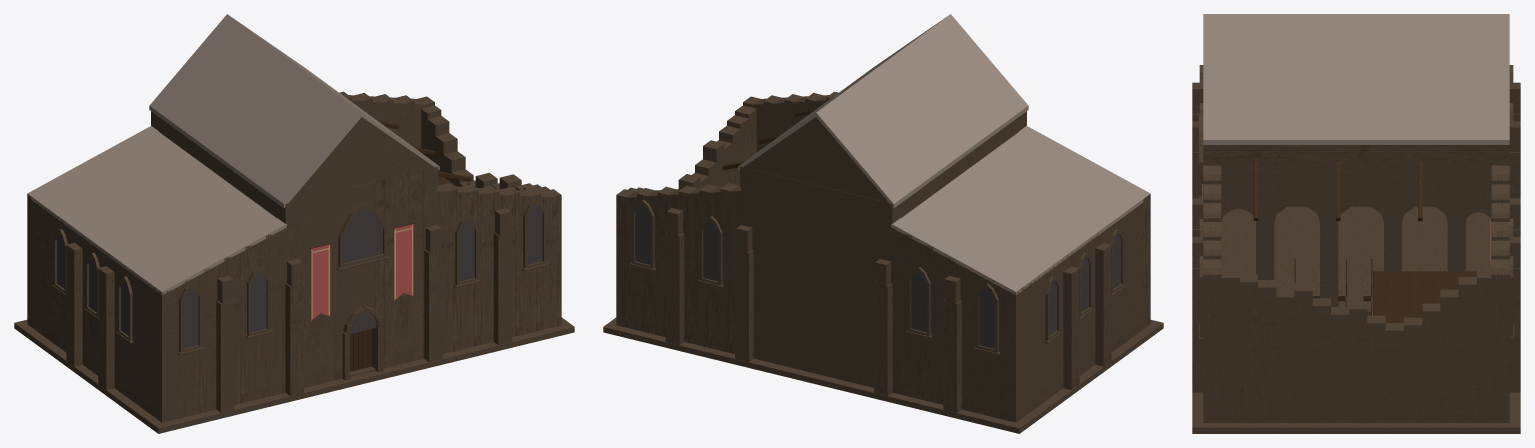
Rendered from d_cathedral.glb.
3 views of the same model, side by side, from view 1: azimuth 30°, elevation 25°; view 2: azimuth 150°, elevation 25°; view 3: azimuth 270°, elevation 25° (orthographic). The views are drawn at different scales.
Visible parts, largest first — view 1: foundation, nave roof, wall-colonly.002, wall-colonly.027, portal tympanum, wall-colonly.001, wall-colonly.008, wall-colonly.003, wall-colonly.009, banner, wall-colonly.011, wall-colonly.014 (+14 smaller); view 2: foundation, nave roof, portal tympanum, wall-colonly.015, wall-colonly.027, wall-colonly.021, wall-colonly.023, wall-colonly.026, wall-colonly.020, wall-colonly.022, buttress-colonly.002, buttress-colonly.006 (+12 smaller); view 3: foundation, nave roof, clerestory-colonly.001, broken rafter, wall-colonly.029, wall-colonly.030, wall-colonly.014, wall-colonly.026, wall-colonly.028, wall-colonly.041, wall-colonly.042, wall-colonly.033 (+24 smaller).
Boxes of the visible parts, x1,y1,x2,y2 form: foundation: (14, 95, 574, 433); nave roof: (27, 14, 439, 295); wall-colonly.002: (375, 168, 436, 368); wall-colonly.027: (35, 203, 153, 415); portal tympanum: (57, 204, 542, 348); wall-colonly.001: (287, 188, 347, 387); wall-colonly.008: (266, 231, 286, 397); wall-colonly.003: (154, 287, 182, 422); wall-colonly.009: (436, 183, 457, 353); banner: (310, 224, 413, 320); wall-colonly.011: (478, 185, 499, 345); wall-colonly.014: (541, 189, 561, 329); foundation: (603, 95, 1163, 433); nave roof: (738, 14, 1150, 295); portal tympanum: (635, 204, 1120, 348); wall-colonly.015: (995, 287, 1023, 422); wall-colonly.027: (1024, 204, 1142, 416); wall-colonly.021: (720, 183, 741, 353); wall-colonly.023: (678, 185, 699, 345); wall-colonly.026: (616, 189, 636, 329); wall-colonly.020: (891, 231, 911, 397); wall-colonly.022: (699, 184, 720, 350); buttress-colonly.002: (943, 300, 961, 412); buttress-colonly.006: (874, 283, 892, 395); foundation: (1192, 65, 1520, 433); nave roof: (1203, 14, 1509, 144); clerestory-colonly.001: (1203, 145, 1509, 162); broken rafter: (1201, 161, 1476, 322); wall-colonly.029: (1239, 274, 1257, 422); wall-colonly.030: (1258, 280, 1276, 422); wall-colonly.014: (1203, 268, 1221, 420); wall-colonly.026: (1491, 268, 1509, 421); wall-colonly.028: (1221, 270, 1239, 422); wall-colonly.041: (1458, 277, 1476, 422); wall-colonly.042: (1477, 270, 1494, 422); wall-colonly.033: (1312, 298, 1330, 422).
Size of what is drawn, in the model's own units: 30 by 18.4 by 18.
Materials: 13 (2 with a texture image).
